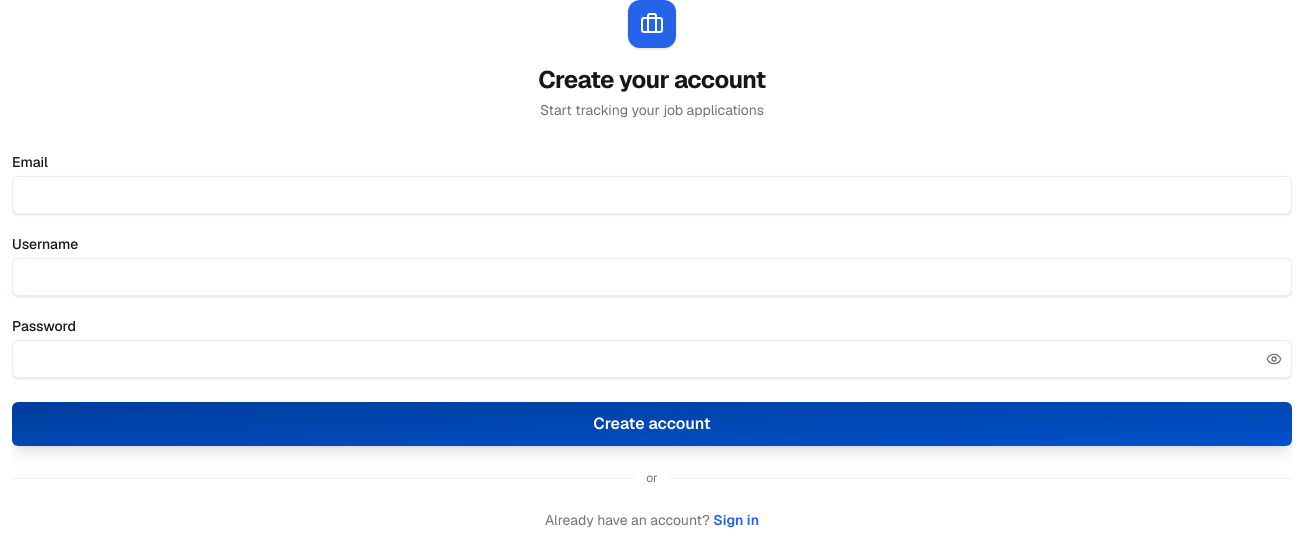
Scenario: RegisterPage › shows loading state when submitting
This screenshot has width=1304, height=545.
Type "test@test.com" into the field labelled "Email" at (652,195), box [12,176,1292,214]
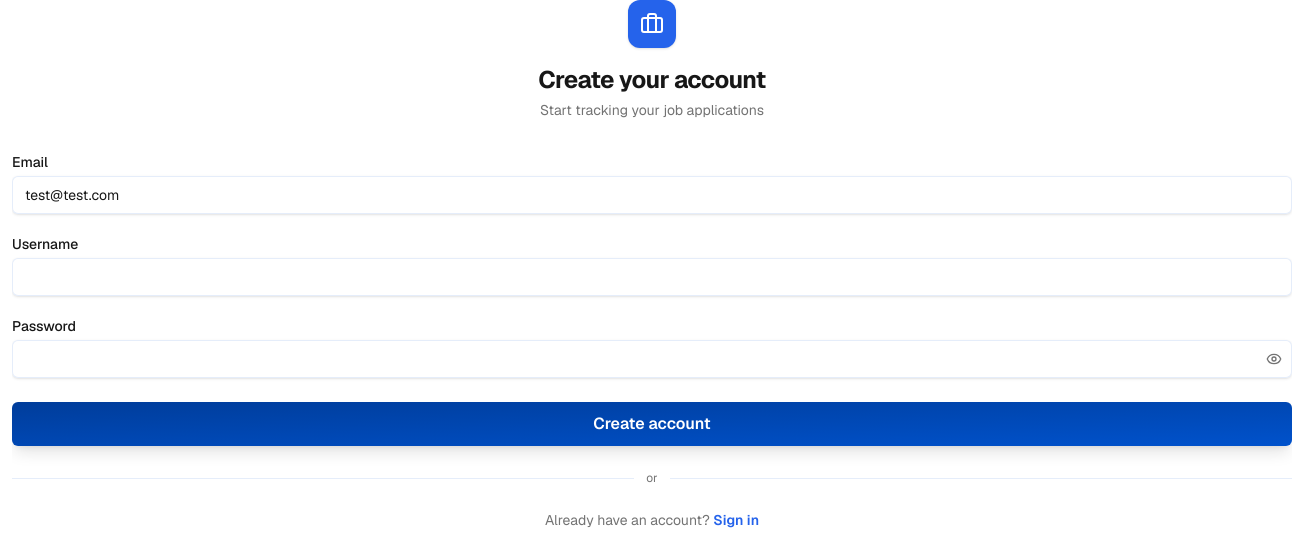
Type "testuser" into the field labelled "Username" at (652,277), box [12,258,1292,296]
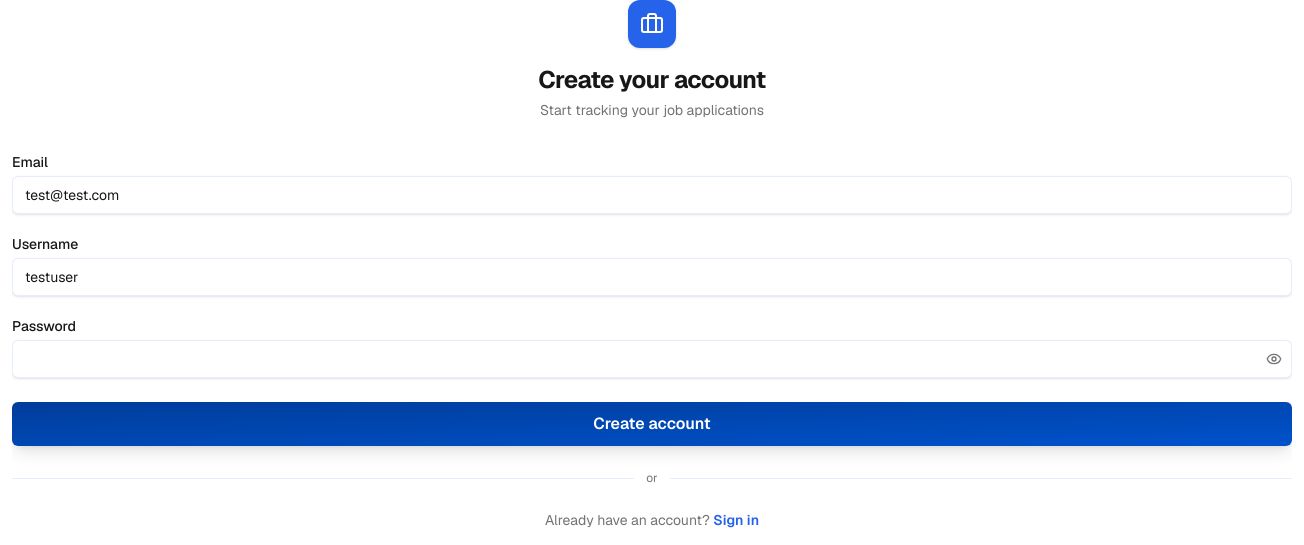
Type "password123" into the password field labelled "Password" at (652,359), box [12,340,1292,378]
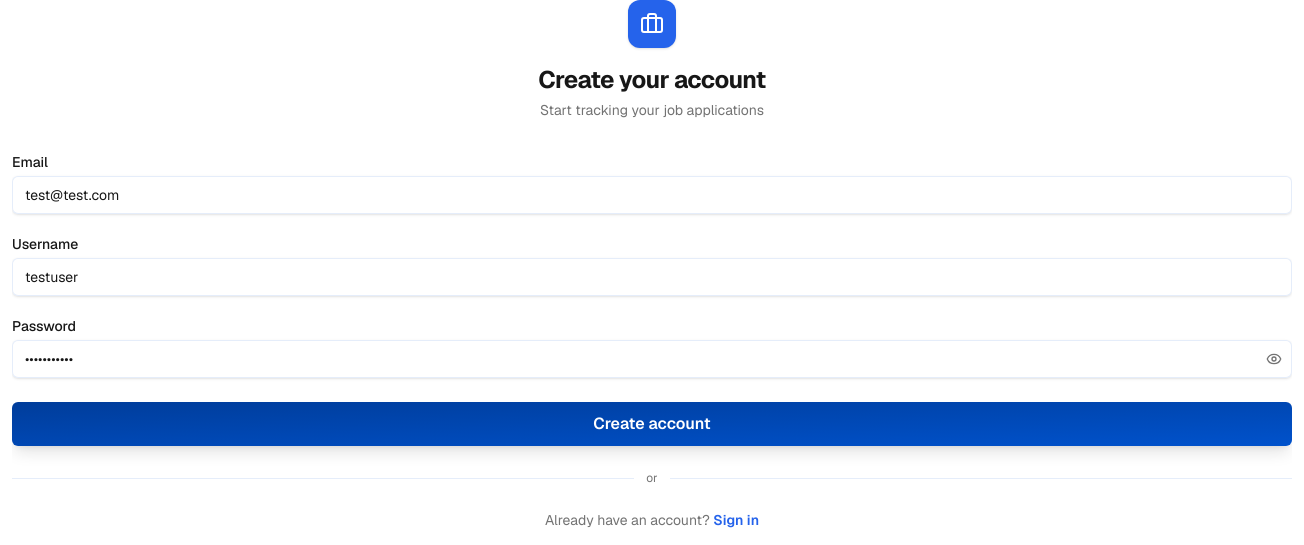
Click the button "Create account" at (652,424), box [12,402,1292,446]
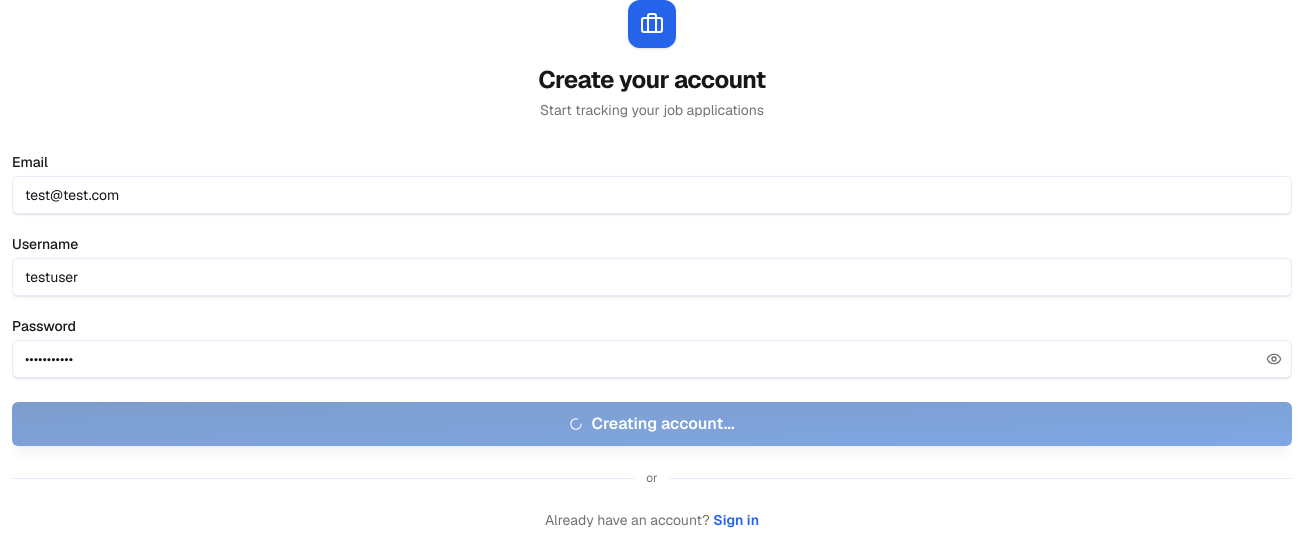
Expected: the button "Creating account..." is shown, [12,402,1292,446]
